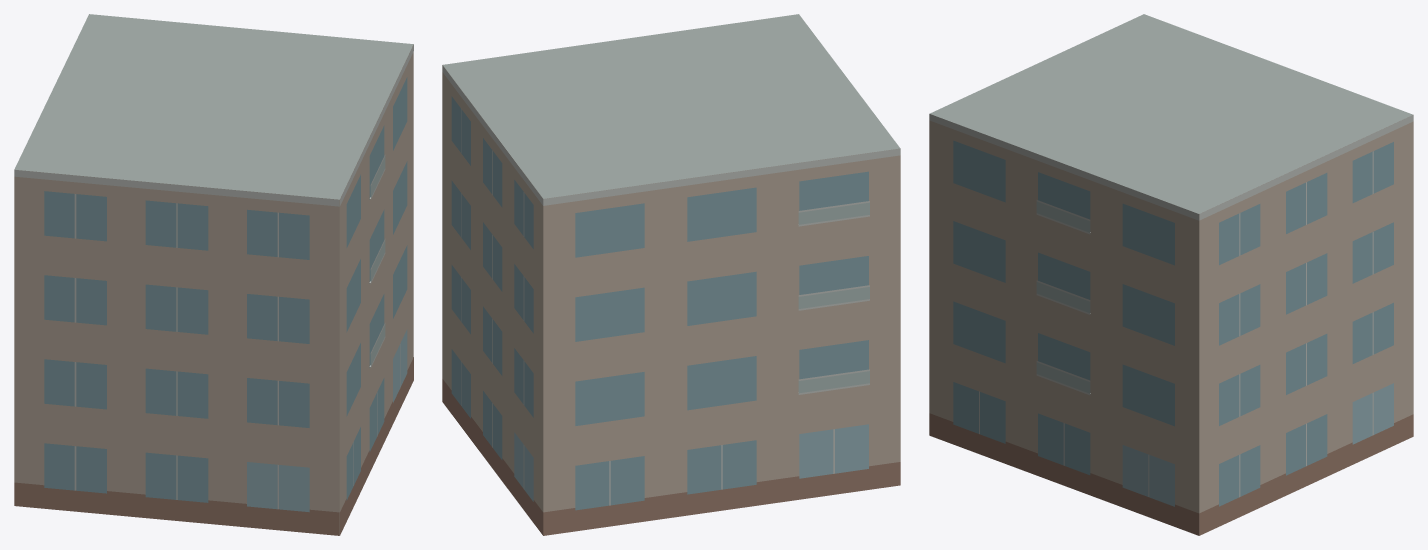
Rendered from survey-upis-32524290.glb.
3 views of the same model, side by side, from view 1: azimuth 30°, elevation 25°; view 2: azimuth 150°, elevation 25°; view 3: azimuth 270°, elevation 25° (orthographic). The views are drawn at different scales.
Parts seen in each view (by area): view 1: survey-upis-32524290.tmp; view 2: survey-upis-32524290.tmp; view 3: survey-upis-32524290.tmp.
Part boxes in pixels (x1,y1,x2,y2): survey-upis-32524290.tmp: [14, 14, 413, 535]; survey-upis-32524290.tmp: [442, 14, 900, 535]; survey-upis-32524290.tmp: [929, 14, 1413, 535].
Bounding box in the file's own units: 15.74 × 11.8 × 16.1.
